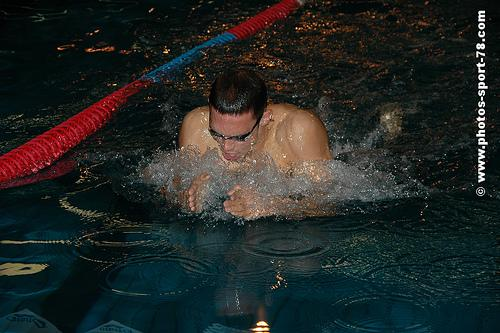swimmer: (180, 69, 341, 218)
